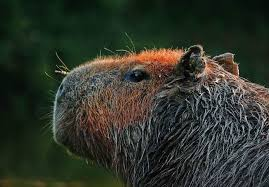capivara: (52, 45, 269, 187)
